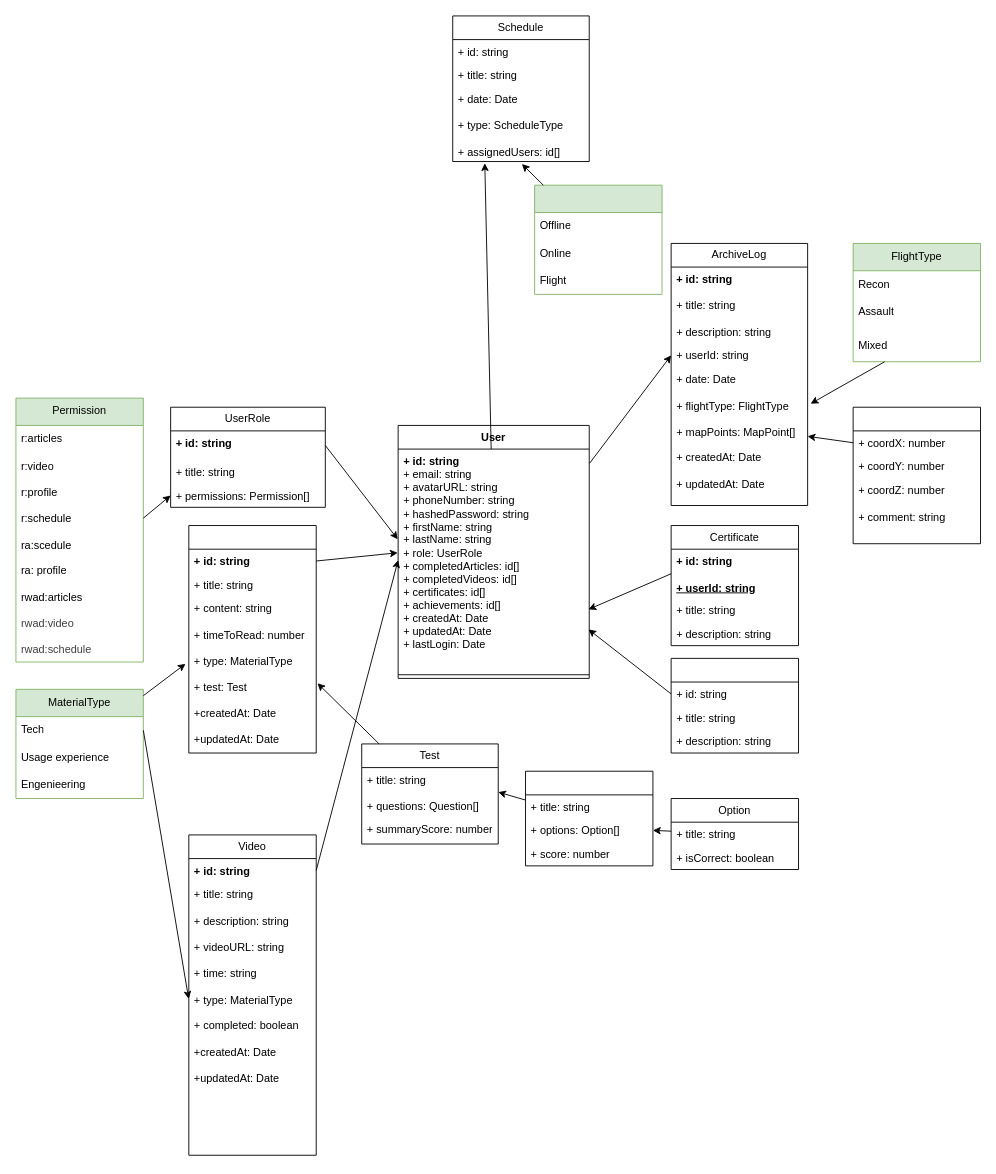
This 996x1174 diagram has some shape labels left out. Each missing label, with the box of its shape:
Achievment: (670, 657, 799, 753)
Article: (188, 525, 316, 753)
MapPoint: (852, 406, 981, 544)
Question: (525, 770, 653, 866)
ScheduleType: (534, 184, 662, 294)
